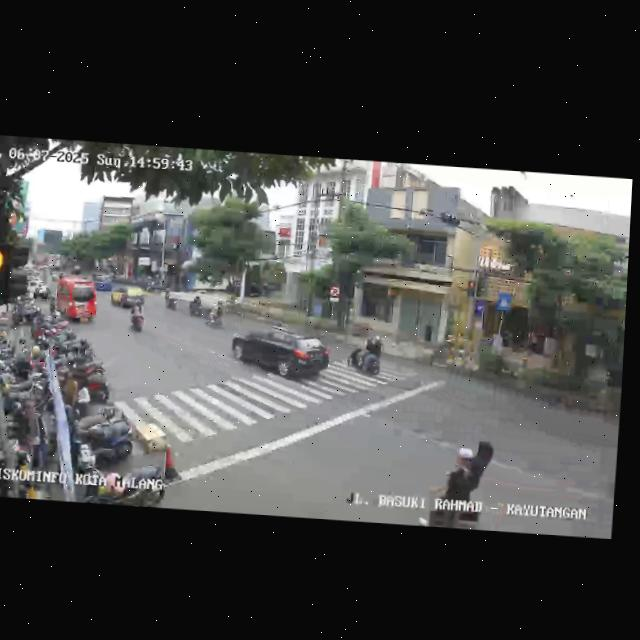car: (228, 321, 332, 385), (48, 273, 99, 324), (109, 282, 146, 310)
motorcycle: (434, 440, 491, 528), (347, 332, 385, 382), (127, 299, 147, 333), (207, 297, 225, 328), (188, 293, 203, 317)
